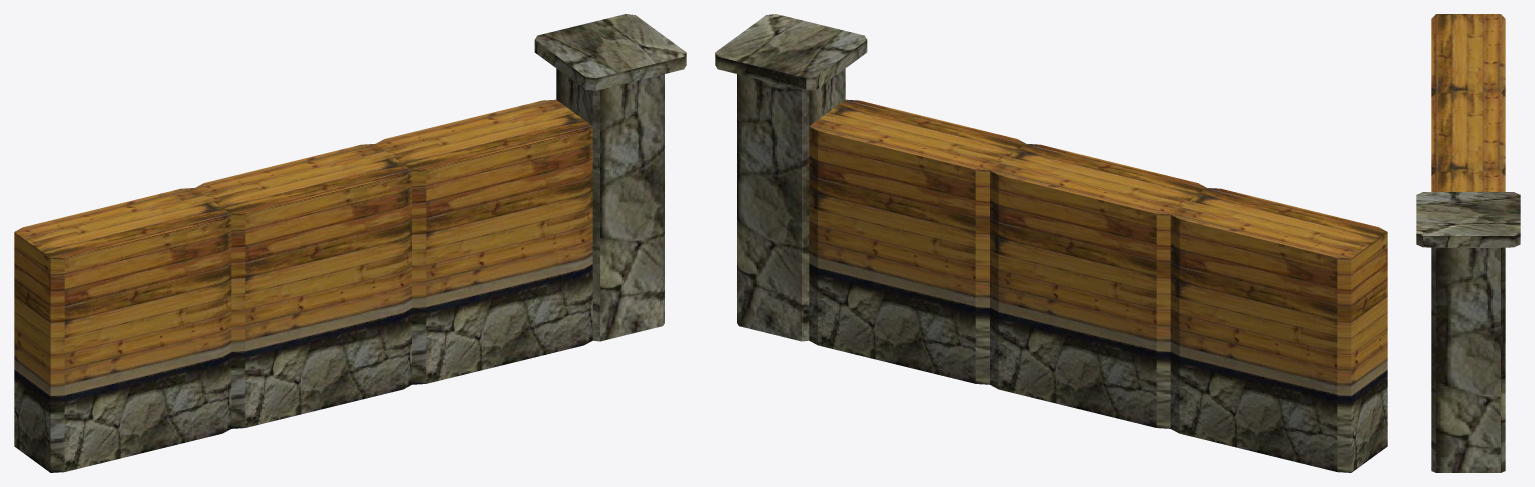
The model's file is Cerco_Piedra_Madera_2.fbx.
3 renders of one model, left to right at view 1: azimuth 30°, elevation 25°; view 2: azimuth 150°, elevation 25°; view 3: azimuth 270°, elevation 25°, orthographic. The views are drawn at different scales.
Visible parts, largest first — view 1: Cerco_Piedra_Madera_2; view 2: Cerco_Piedra_Madera_2; view 3: Cerco_Piedra_Madera_2.
Part boxes in pixels (x1,y1,x2,y2): Cerco_Piedra_Madera_2: (14, 14, 686, 472); Cerco_Piedra_Madera_2: (715, 14, 1387, 472); Cerco_Piedra_Madera_2: (1416, 14, 1520, 472).
Size of the model in its own units: 5.22 by 0.84 by 2.16.
1 material, 1 textured.
